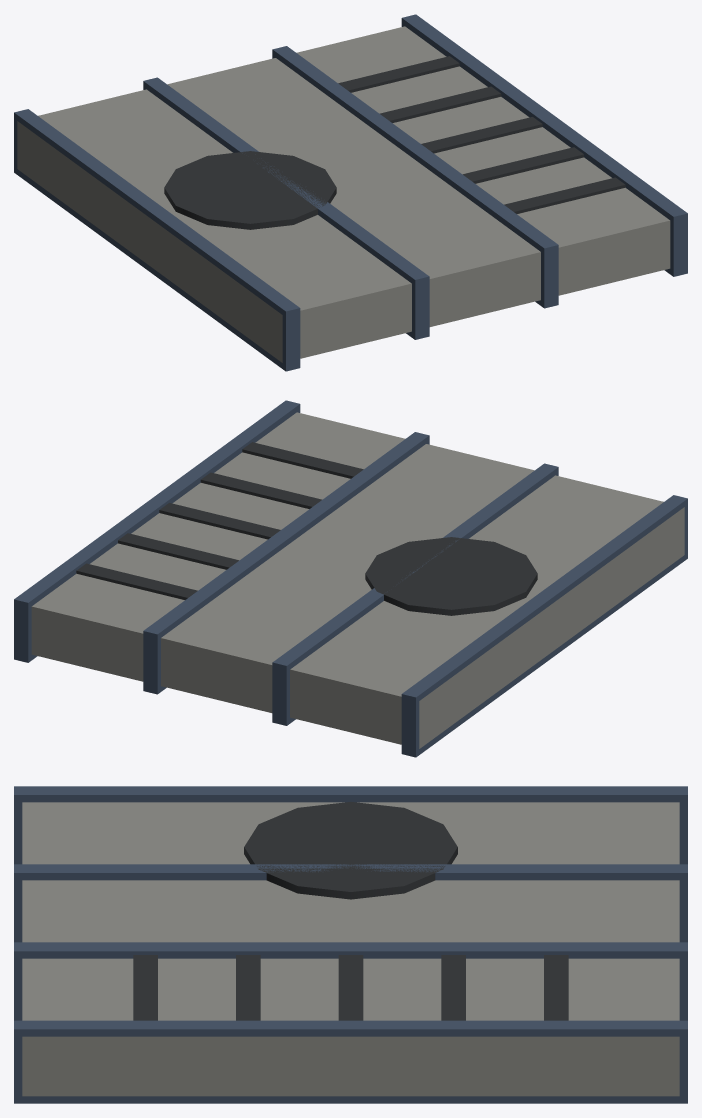
File: kz6_climate.obj
The picture shows the model from 3 angles, top to bottom: view 1: azimuth 30°, elevation 25°; view 2: azimuth 150°, elevation 25°; view 3: azimuth 270°, elevation 25°; orthographic projection. The views are drawn at different scales.
Visible parts, largest first — view 1: kz6_climate; view 2: kz6_climate; view 3: kz6_climate.
Boxes of the visible parts, x1,y1,x2,y2 form: kz6_climate: [14, 14, 687, 371]; kz6_climate: [14, 400, 687, 757]; kz6_climate: [14, 786, 687, 1103].
Bounding box in the file's own units: 1.4 × 0.2 × 1.64.
